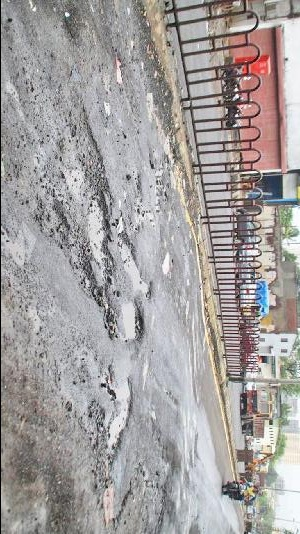pothole: (66, 107, 113, 308), (104, 374, 134, 461), (119, 238, 155, 302), (118, 298, 145, 345), (153, 161, 167, 212), (102, 483, 117, 527), (160, 250, 174, 275)
